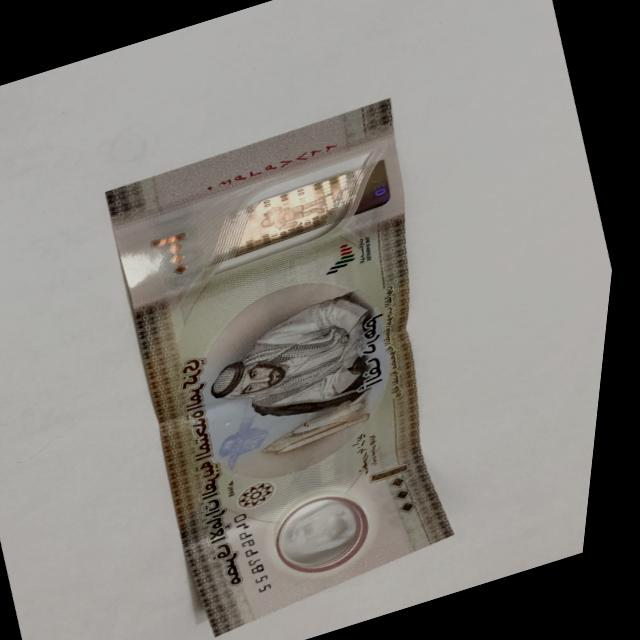1000_AED: (96, 92, 455, 637)
